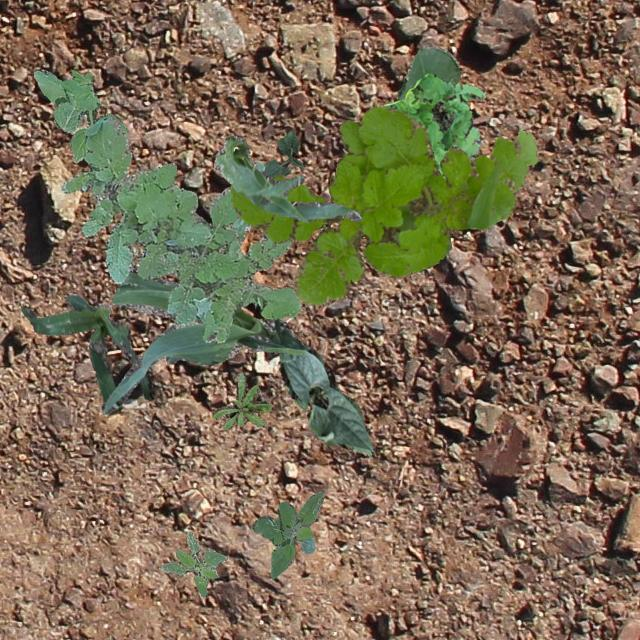crop: (100, 268, 304, 412), (165, 160, 264, 362), (20, 294, 154, 412), (212, 134, 360, 222), (278, 341, 374, 454), (396, 44, 459, 100), (262, 128, 304, 178)
weed: (228, 104, 538, 304), (61, 116, 300, 342), (382, 73, 486, 178), (32, 68, 128, 162), (250, 490, 322, 578), (158, 530, 226, 596), (212, 372, 270, 428)
